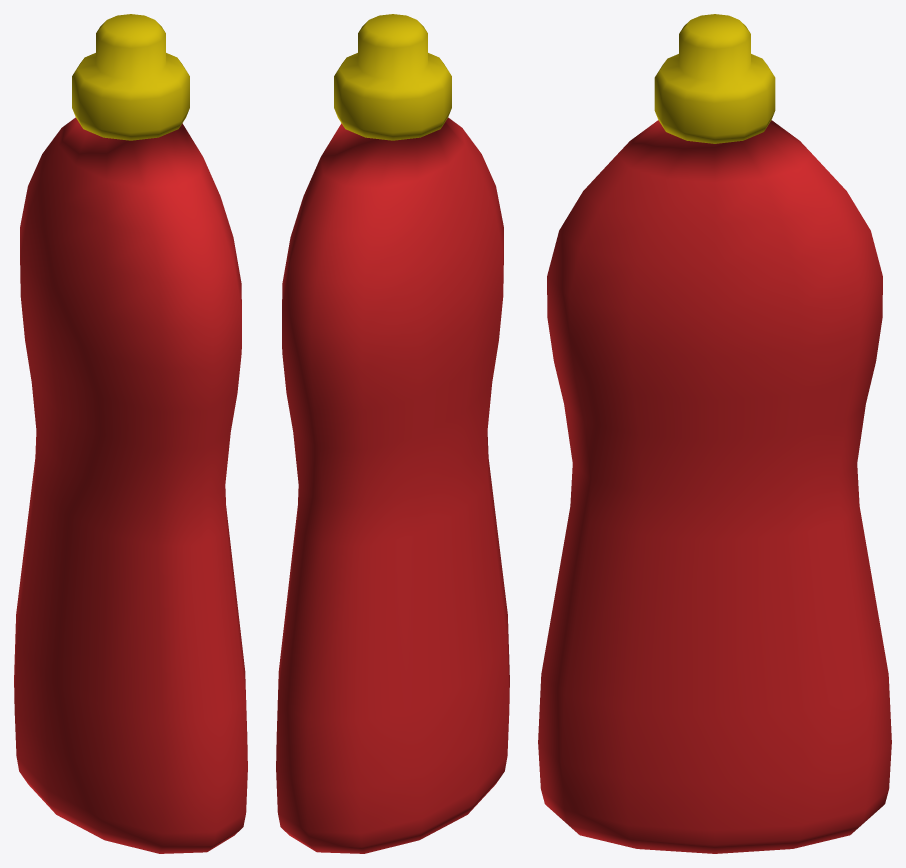
Rendered from MOD_PRO_Washing_liquid.fbx.
3 renders of one model, left to right at view 1: azimuth 30°, elevation 25°; view 2: azimuth 150°, elevation 25°; view 3: azimuth 270°, elevation 25°, orthographic. The views are drawn at different scales.
Visible parts, largest first — view 1: HSHP_MOD_Washing_liquid; view 2: HSHP_MOD_Washing_liquid; view 3: HSHP_MOD_Washing_liquid.
Boxes of the visible parts, left/top/right/bottom form: HSHP_MOD_Washing_liquid: left=14, top=14, right=247, bottom=853; HSHP_MOD_Washing_liquid: left=276, top=14, right=509, bottom=853; HSHP_MOD_Washing_liquid: left=538, top=14, right=891, bottom=853.
Size of the model in its own units: 0.0682 by 0.2971 by 0.1205.
